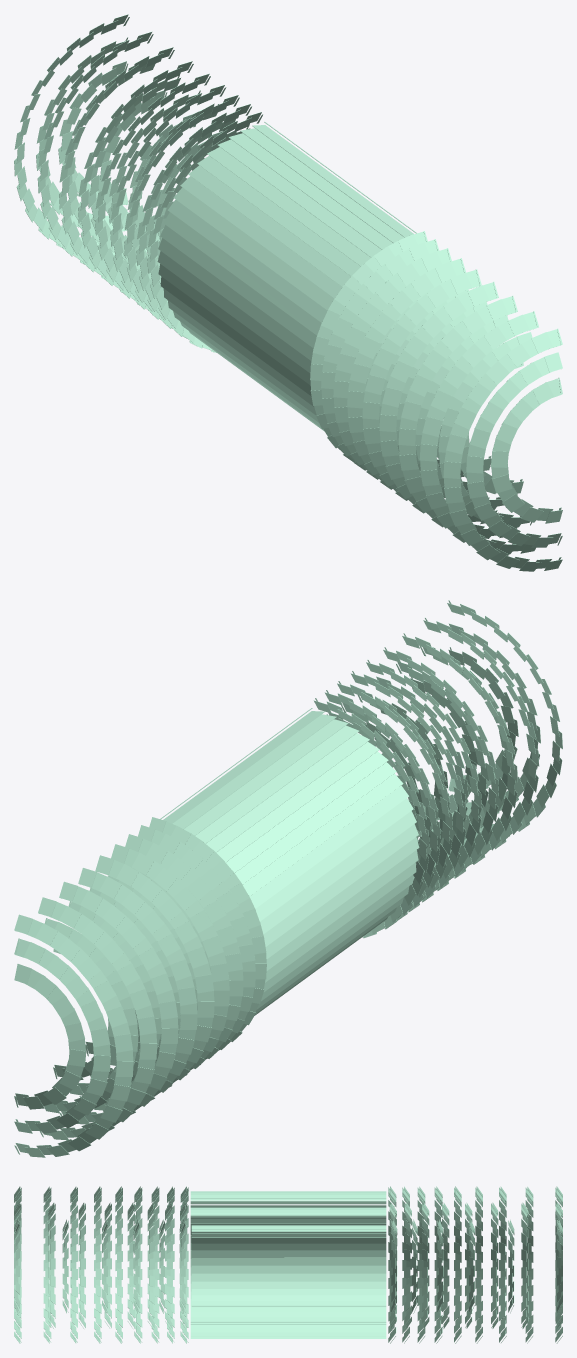
Rendered from ITK-Pixel-Layout-Outer-Barrel-cut2.glb.
The picture shows the model from 3 angles, top to bottom: view 1: azimuth 30°, elevation 25°; view 2: azimuth 150°, elevation 25°; view 3: azimuth 270°, elevation 25°; orthographic projection. The views are drawn at different scales.
Parts seen in each view (by area): view 1: ITK_Pixel_Layout_Outer_Barrel Cut 2; view 2: ITK_Pixel_Layout_Outer_Barrel Cut 2; view 3: ITK_Pixel_Layout_Outer_Barrel Cut 2.
Boxes of the visible parts, x1,y1,x2,y2 form: ITK_Pixel_Layout_Outer_Barrel Cut 2: [14, 14, 562, 571]; ITK_Pixel_Layout_Outer_Barrel Cut 2: [14, 600, 562, 1157]; ITK_Pixel_Layout_Outer_Barrel Cut 2: [14, 1186, 562, 1343].
Bounding box in the file's own units: 0.3173 × 0.6337 × 2.1.
